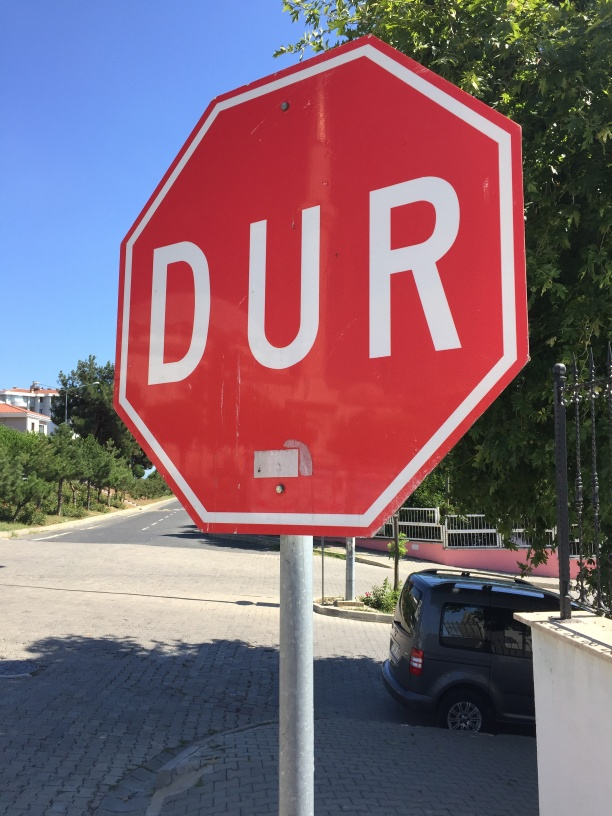arac_dur_isareti: (103, 38, 559, 644)
